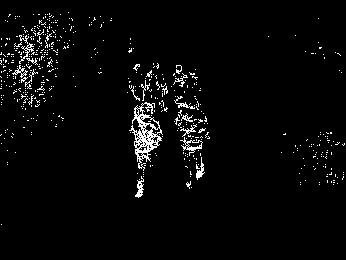person: (176, 98, 210, 191), (126, 101, 158, 198)
